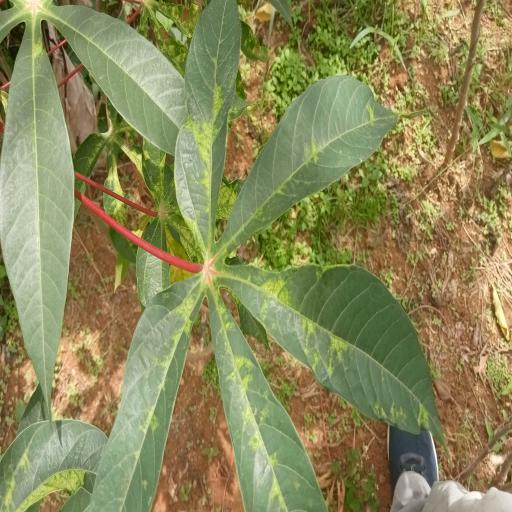Cassava_Brown_Leaf_Spot: (98, 2, 444, 512)
